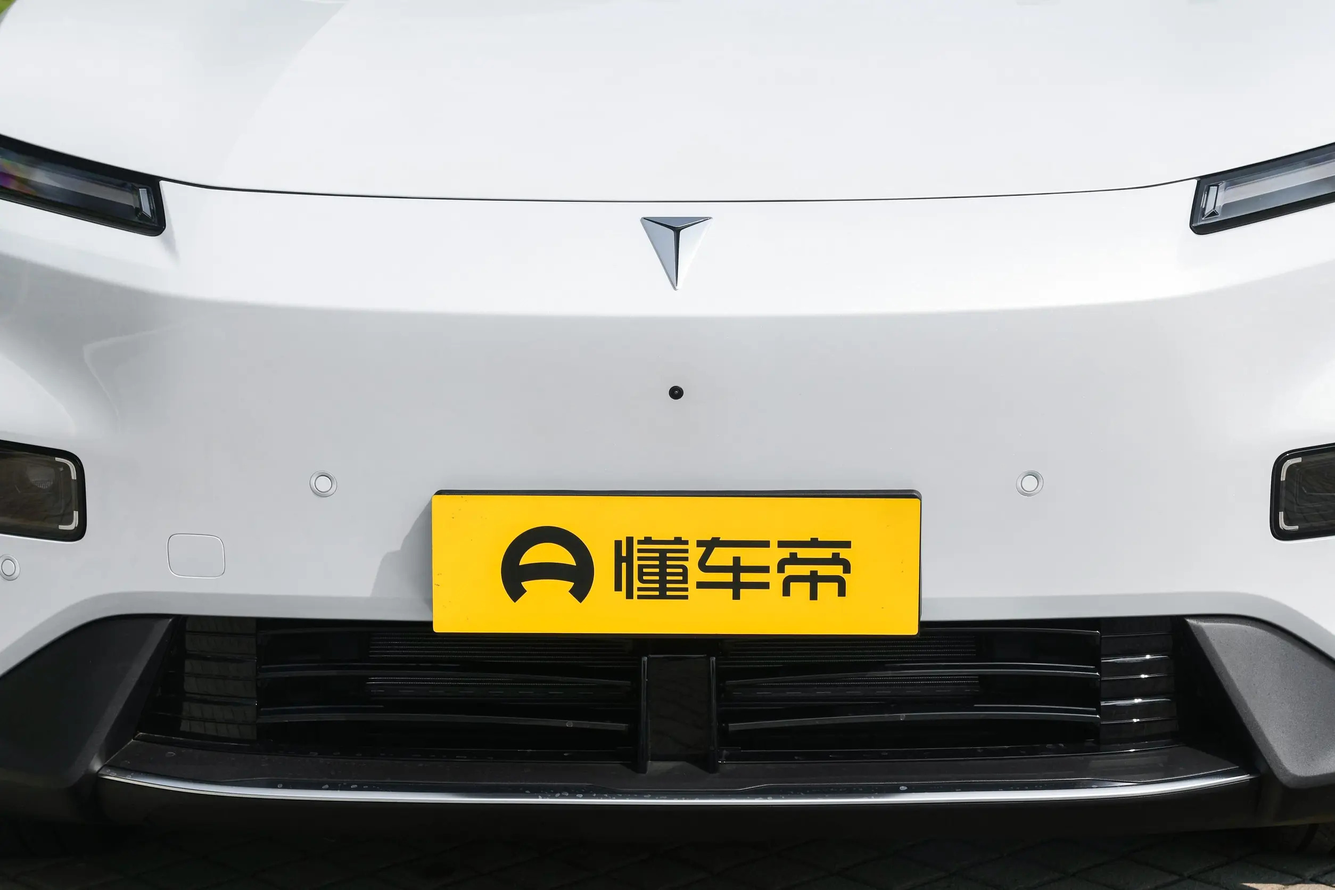Deepal: (641, 216, 712, 289)
